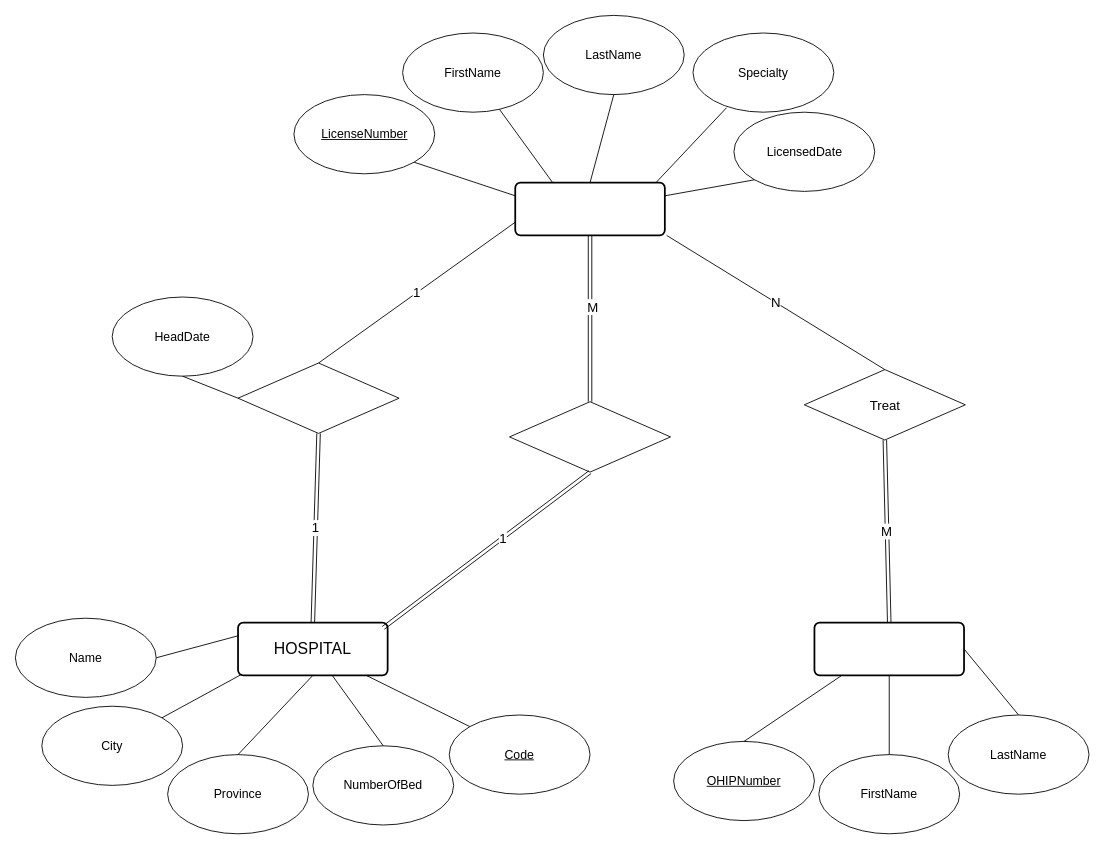
The diagram is 1104 pixels wide and 849 high, and some of its shapes have lost their labels. The box of each missing label's shape, as (x1, y1, x2, y2) in pixels:
DOCTOR: (514, 181, 665, 236)
HeadOf: (237, 362, 399, 433)
PATIENT: (813, 621, 964, 676)
WorkOutOf: (509, 401, 671, 472)
